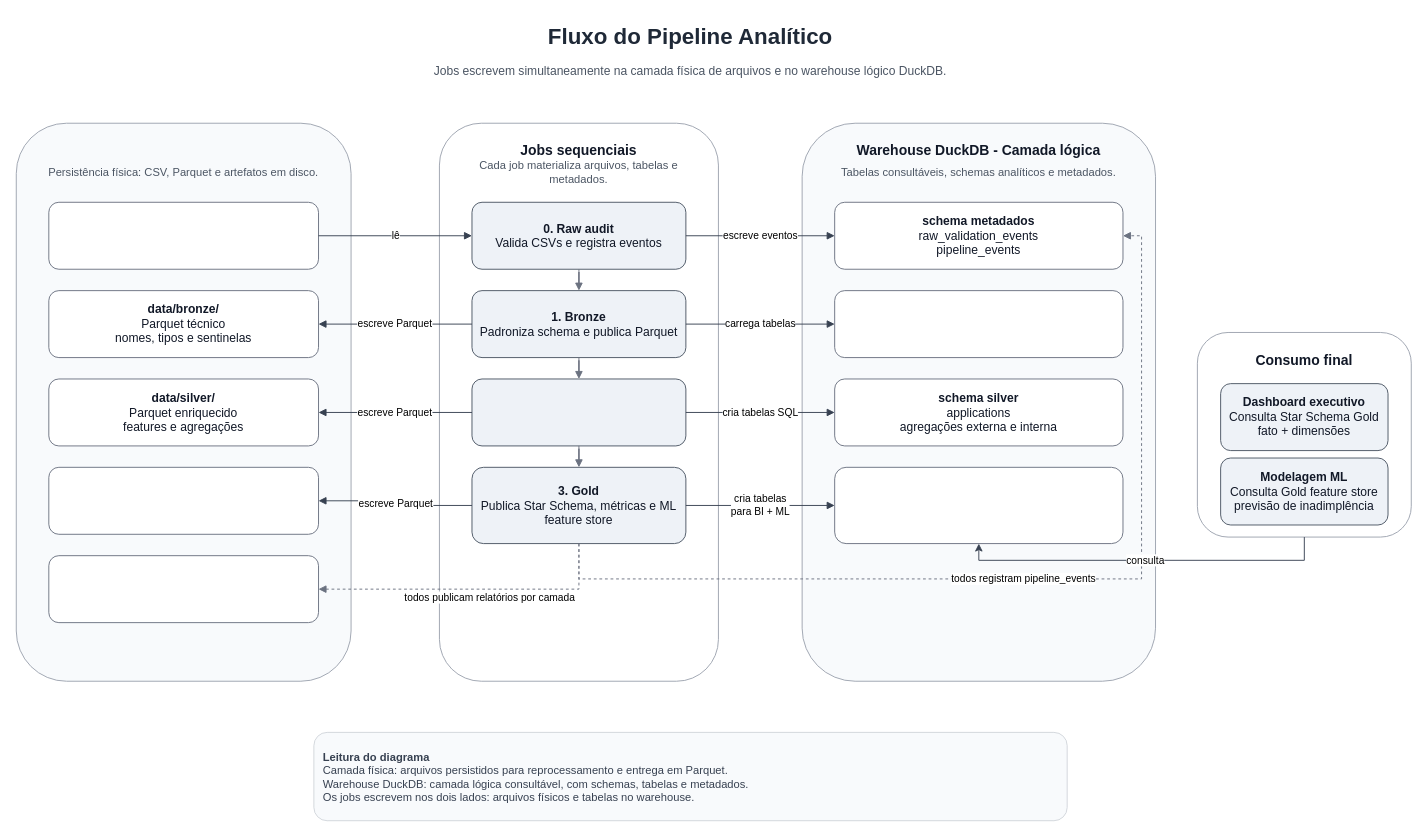
This 1428x837 diagram has some shape labels left out. Each missing label, with the box of its shape:
2. Silver Executa SQLs de features e agregações: (471, 378, 686, 446)
artifacts/ Relatórios JSON planos e diagnósticos: (48, 555, 319, 623)
Camada física - Storage em arquivos: (15, 122, 351, 681)
data/gold/ Parquet final BI e feature store: (48, 466, 319, 534)
data/raw/ CSVs originais preservados para auditoria: (48, 201, 319, 269)
schema bronze Tabelas técnicas carregadas a partir dos Parquets bronze: (834, 290, 1123, 358)
schema gold fact_credit_risk + dimensões credit_risk_feature_store: (834, 466, 1123, 544)
